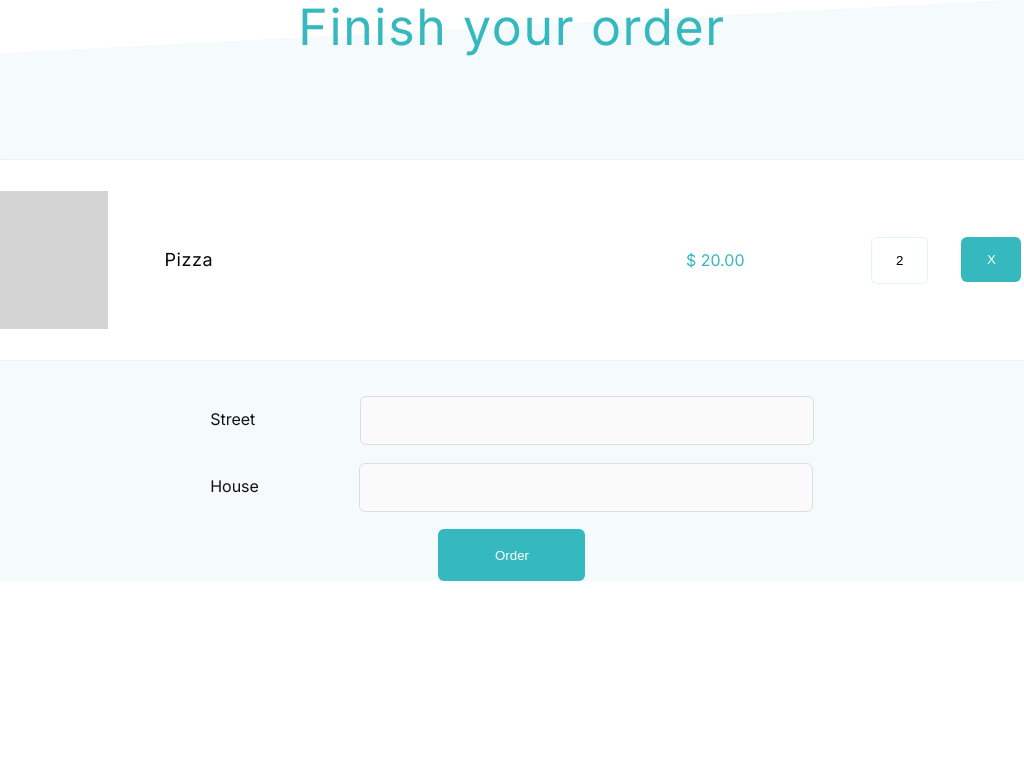
Test: OrderPage: unit tests › Should close order-confirmation modal window after order was confirmed
Type "Main" into the field labelled "Street" at [587, 421], box [360,396,814,445]
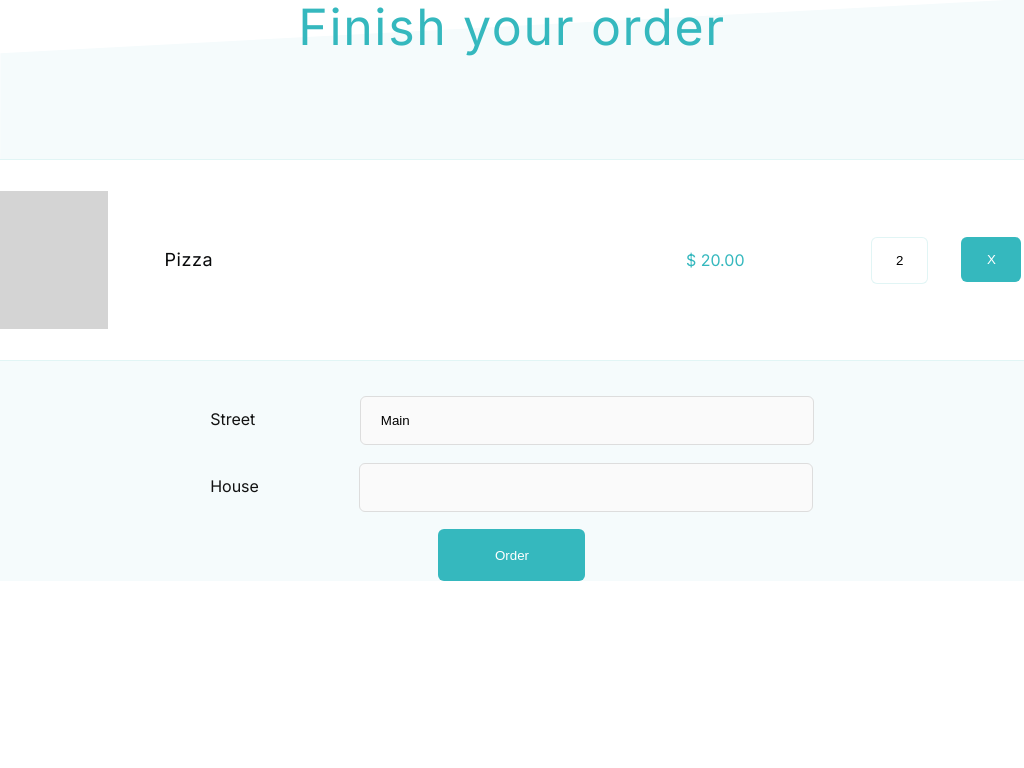
Type "1A" into the field labelled "House" at [586, 487], box [359,463,813,512]
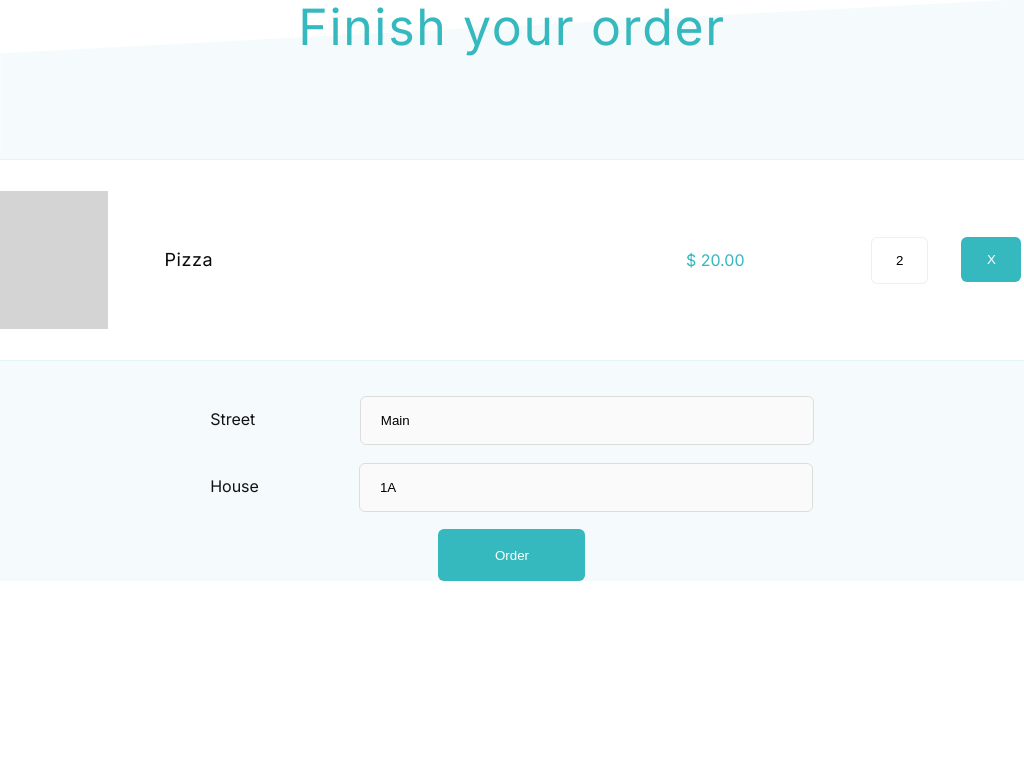
Click the button "Order" at [512, 555], box [438,529,586,581]
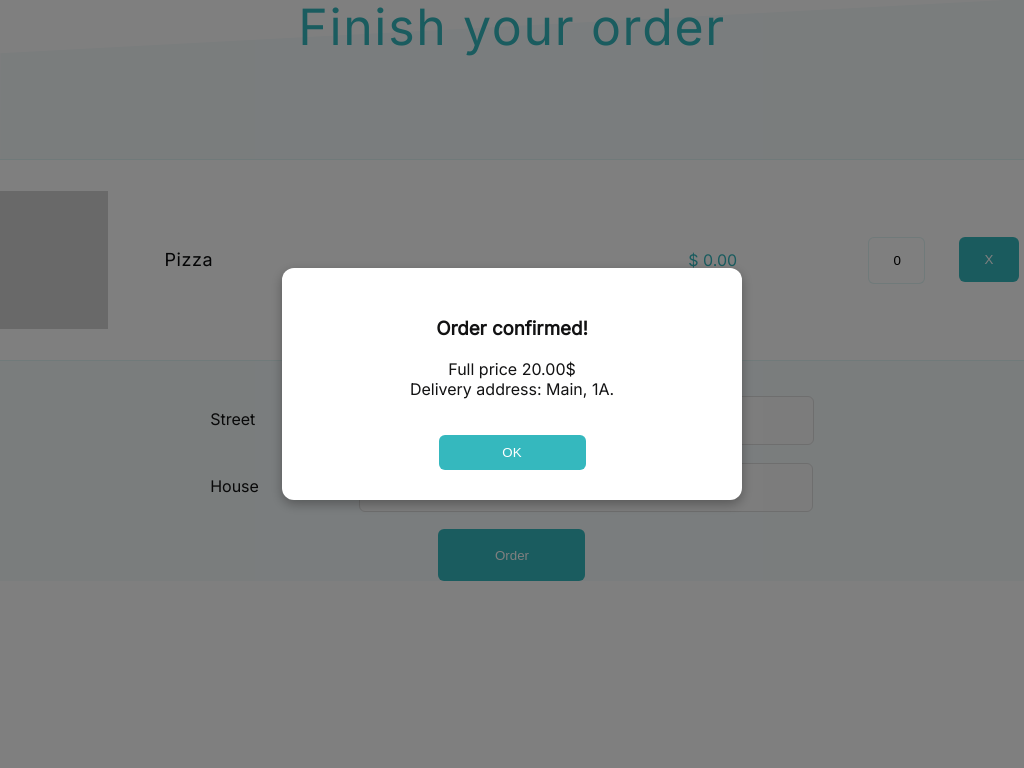
Expected: the heading "Order confirmed!" is shown, [436,317,588,340]
Click the button "OK" at [512, 452], box [438,435,586,470]
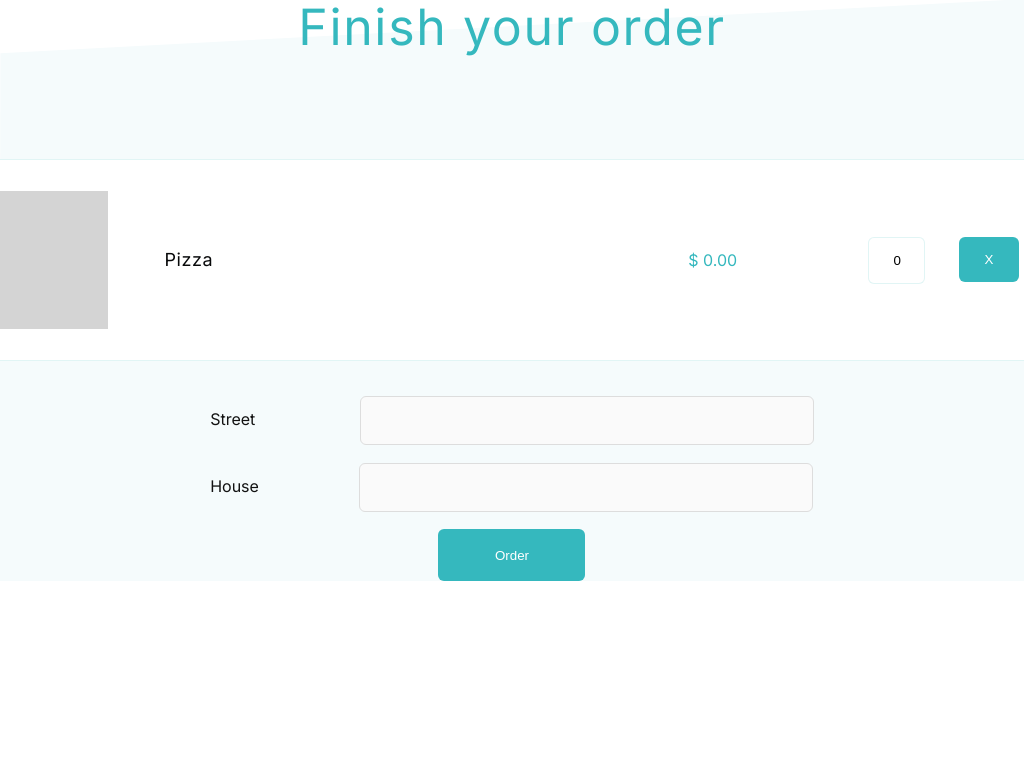
Expected: the heading "Order confirmed!" is gone
